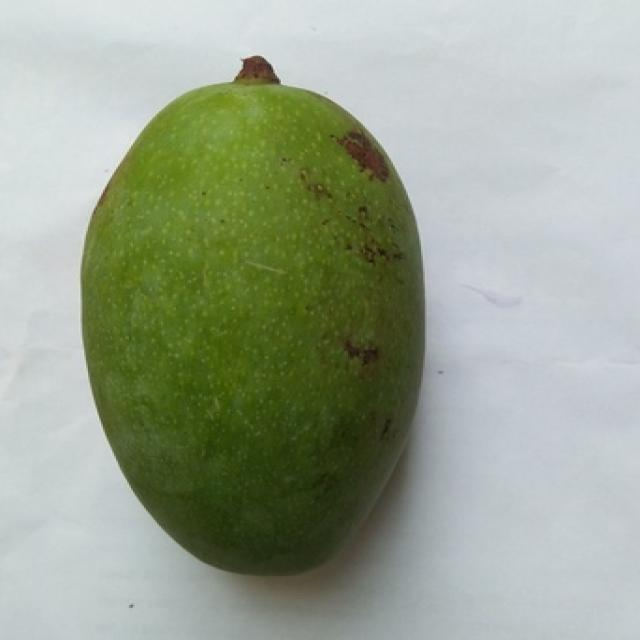Mango: (82, 58, 423, 573)
